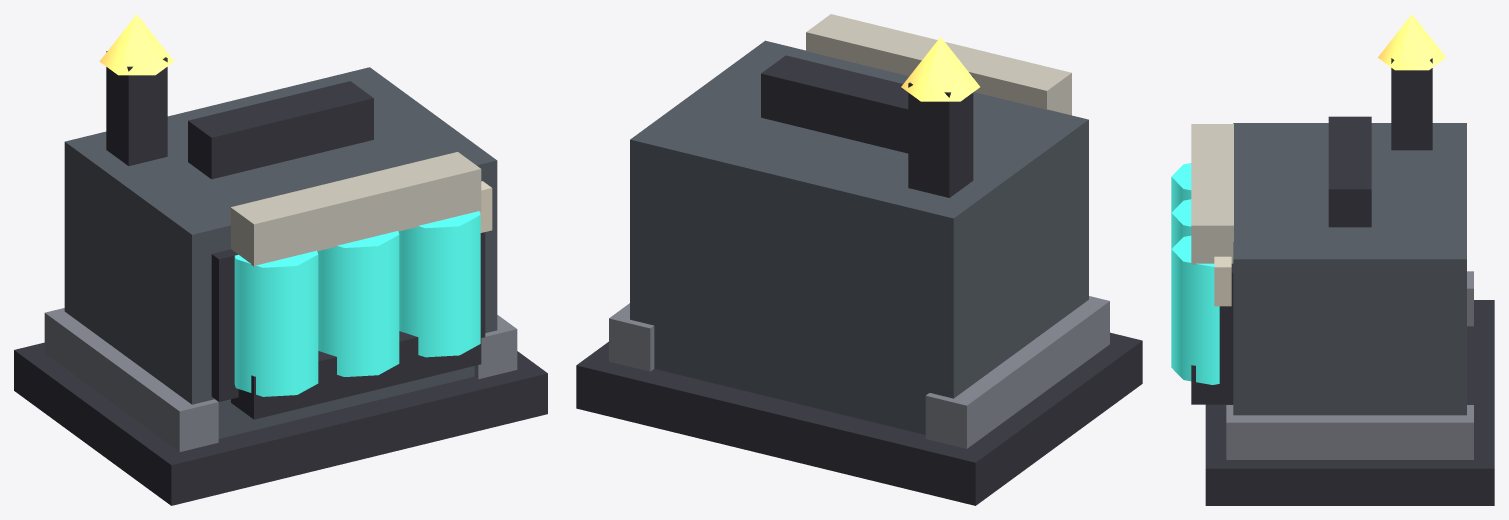
The model's file is scene__generator.glb.
3 renders of one model, left to right at view 1: azimuth 30°, elevation 25°; view 2: azimuth 150°, elevation 25°; view 3: azimuth 270°, elevation 25°, orthographic. The views are drawn at different scales.
Bounding box in the file's own units: 1.16 × 1.15 × 0.94.
